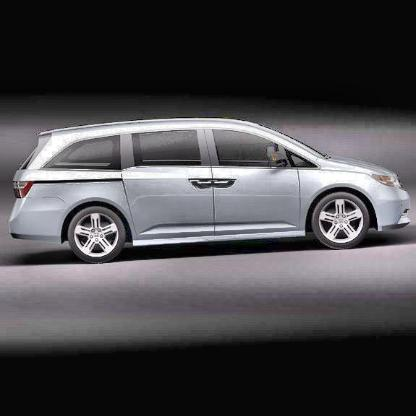Honda Odyssey Minivan 2012: (4, 111, 414, 265)
